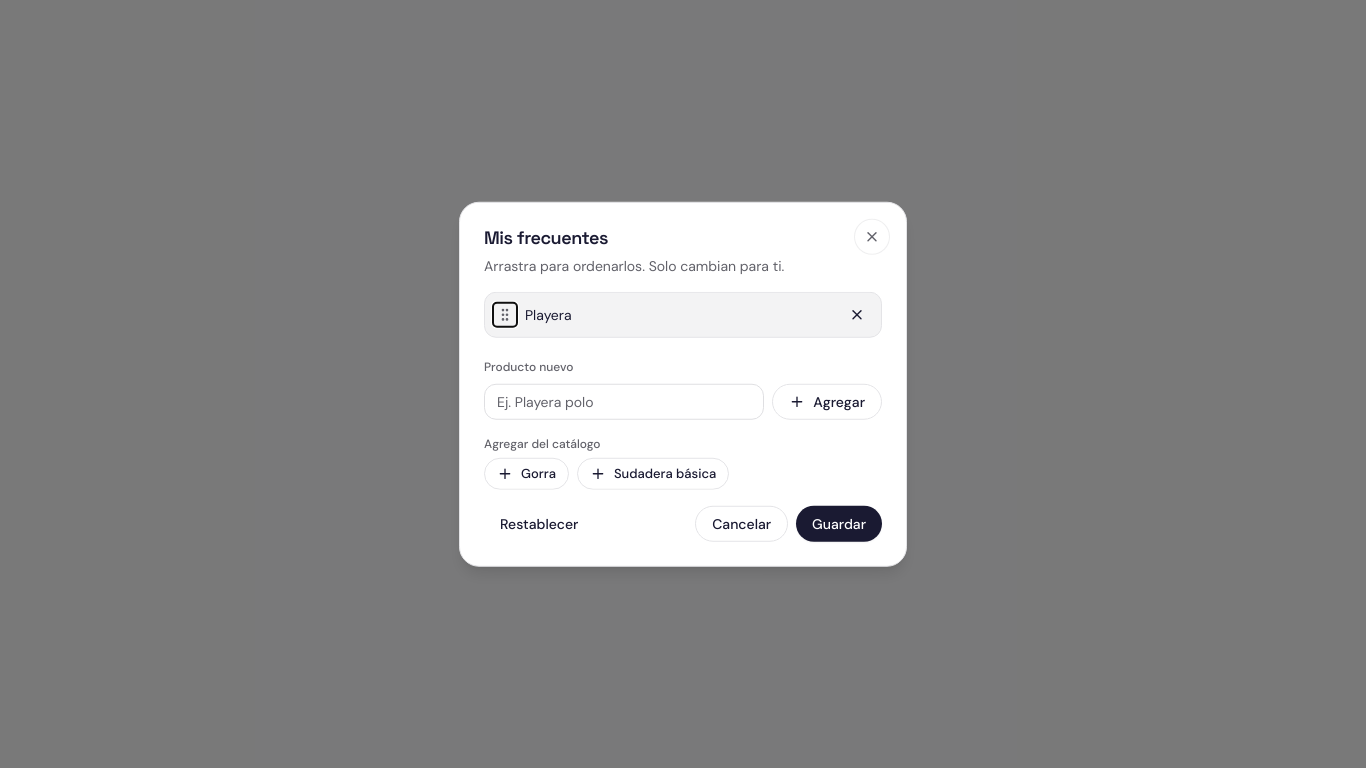
Test: CustomizeFrequentsDialog › muestra el error del backend y conserva lo escrito
This screenshot has width=1366, height=768.
Step 1. Type "Prohibido" into the field labelled "Producto nuevo" → point(624, 401), box [484,383,764,419]
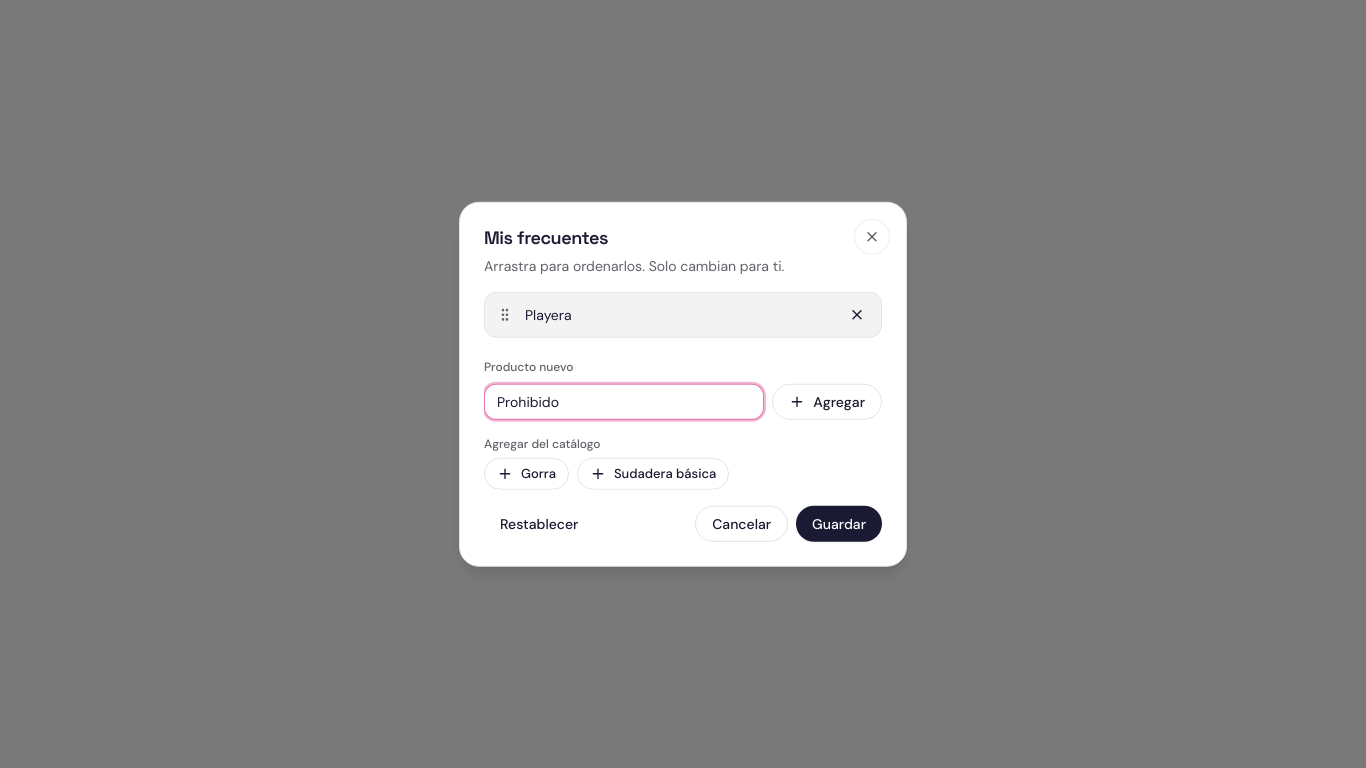
Step 2. Click the button "Agregar" → point(827, 401), box [772,383,882,419]
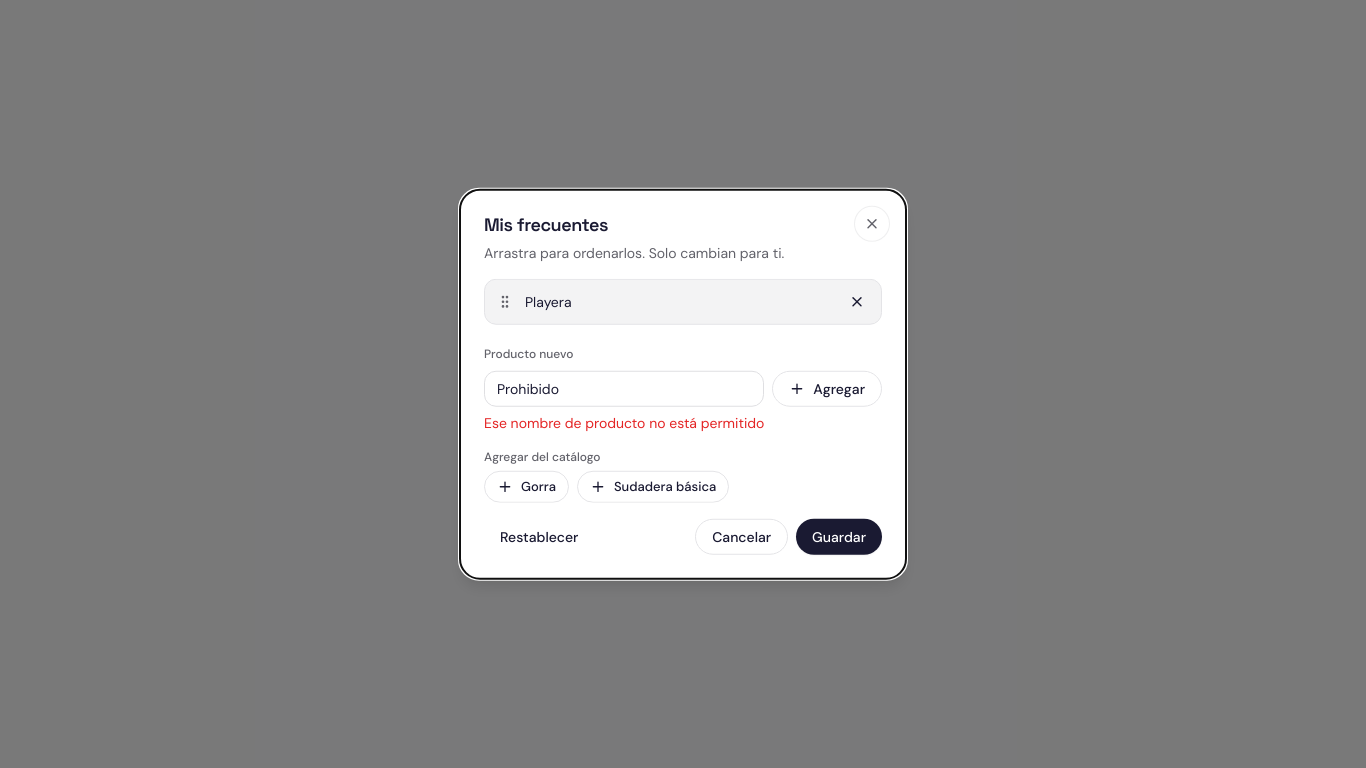
Now the message reads "Ese nombre de producto no está permitido", box [484,413,764,431]
